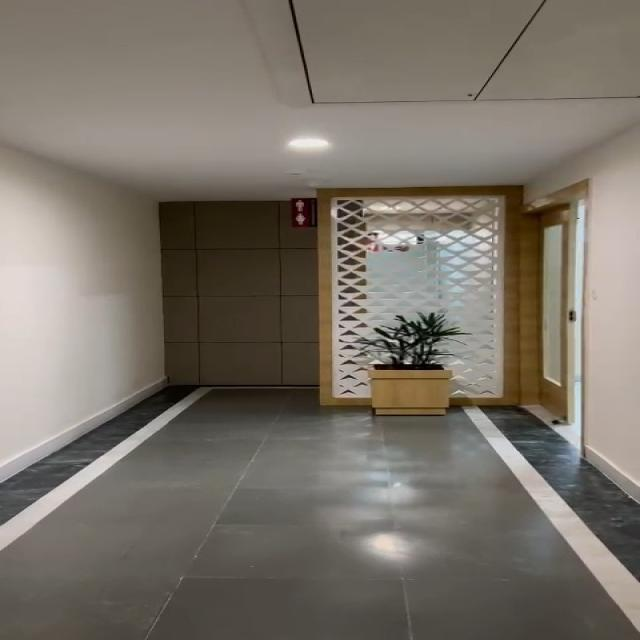door: (507, 201, 584, 416)
floor: (382, 421, 640, 640), (161, 391, 383, 640), (6, 448, 153, 640)
furniture: (336, 313, 468, 425)
wall: (0, 127, 170, 407), (584, 149, 640, 444)
